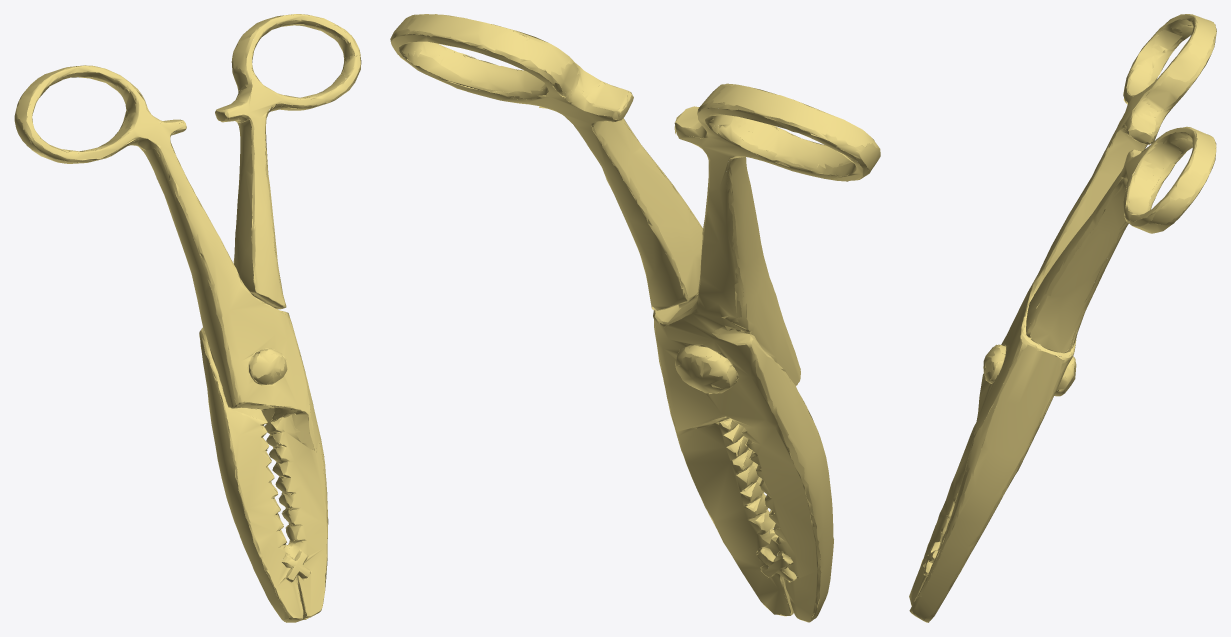
The model's file is equip_ent_asch_forceps.glb.
3 renders of one model, left to right at view 1: azimuth 30°, elevation 25°; view 2: azimuth 150°, elevation 25°; view 3: azimuth 270°, elevation 25°, orthographic. The views are drawn at different scales.
Visible parts, largest first — view 1: world; view 2: world; view 3: world.
Boxes of the visible parts, <box> form: world: <box>14,14,361,622</box>; world: <box>390,14,880,622</box>; world: <box>909,14,1216,622</box>.
Bounding box in the file's own units: 0.1296 × 0.1803 × 0.0938.
